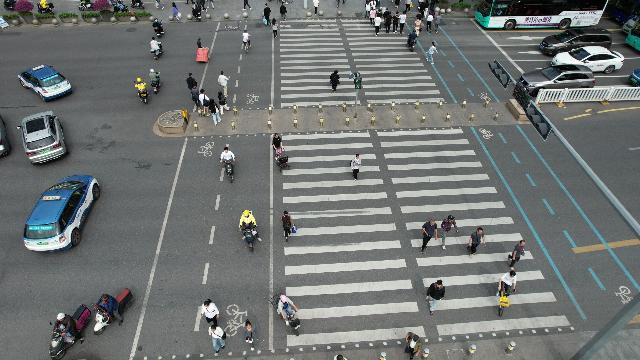non-motor-vehicle: (50, 300, 90, 360), (92, 290, 134, 336), (273, 294, 299, 336), (240, 210, 262, 252), (498, 272, 516, 316), (220, 148, 238, 182), (132, 77, 150, 105), (148, 68, 162, 94), (148, 38, 164, 60), (152, 19, 166, 37), (242, 30, 252, 54), (192, 4, 202, 22), (408, 29, 416, 50), (130, 0, 146, 10), (113, 5, 131, 11)
person: (425, 278, 445, 318), (273, 132, 291, 172), (508, 237, 526, 271), (442, 215, 458, 253), (242, 319, 260, 351), (467, 228, 485, 260), (422, 218, 436, 258), (208, 324, 226, 354), (200, 299, 220, 325), (280, 210, 296, 242), (406, 330, 422, 360), (208, 99, 222, 124), (350, 153, 362, 181), (197, 38, 210, 62), (218, 70, 230, 92), (425, 41, 435, 67), (398, 11, 408, 35), (200, 88, 208, 116), (219, 93, 229, 115), (330, 70, 340, 92), (186, 71, 196, 91), (271, 18, 279, 38), (434, 14, 442, 34), (172, 1, 180, 20), (193, 85, 199, 107), (386, 12, 392, 34), (264, 3, 270, 23), (374, 14, 380, 34), (281, 1, 287, 20), (393, 12, 399, 30), (415, 17, 421, 34), (364, 1, 370, 18), (313, 1, 319, 16), (428, 12, 432, 32), (370, 6, 374, 22), (413, 12, 422, 18), (383, 8, 389, 16)
